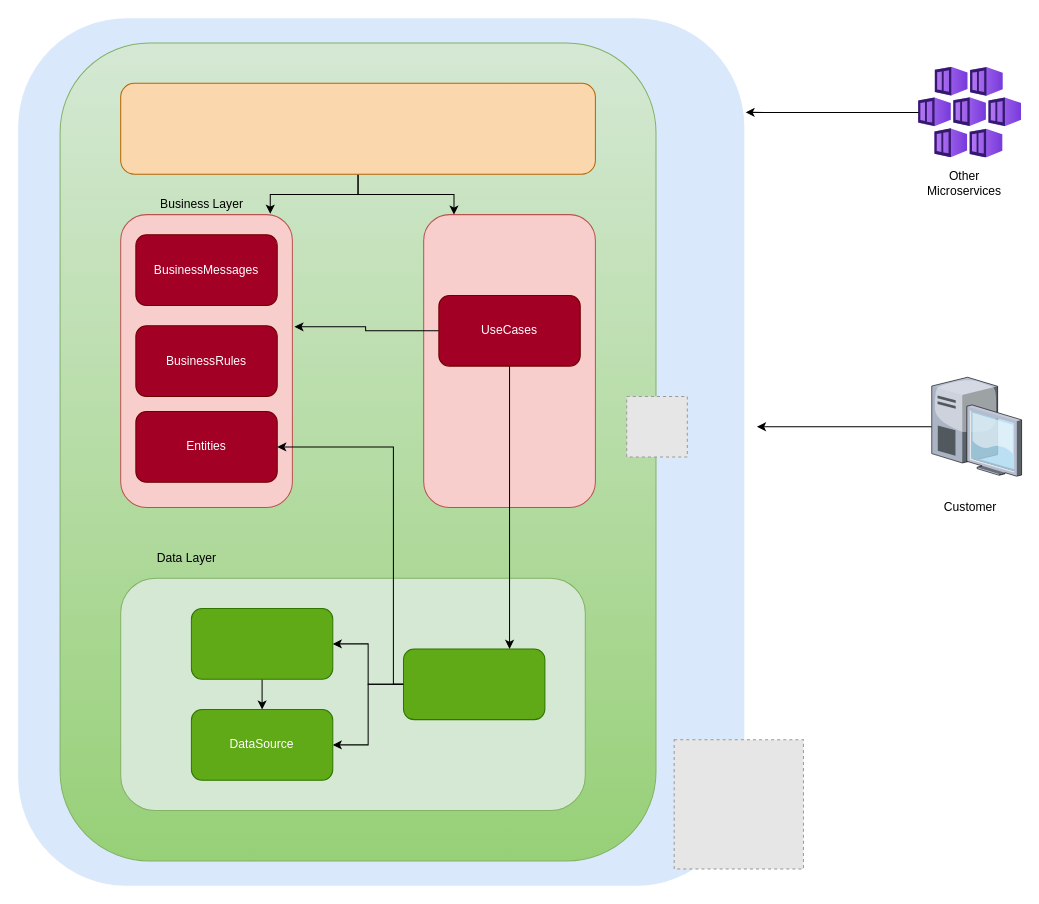
Image size: 1039x904. Some labels were removed from this diagram. Grey dashed boxes stand in for pictures. Here are the shapes that lost their labels. From the top down, the box of each, then its label:
(120, 82, 595, 174): Application / Service Layer (HTTP)
(190, 608, 333, 679): Models
(402, 648, 545, 720): Repositories
